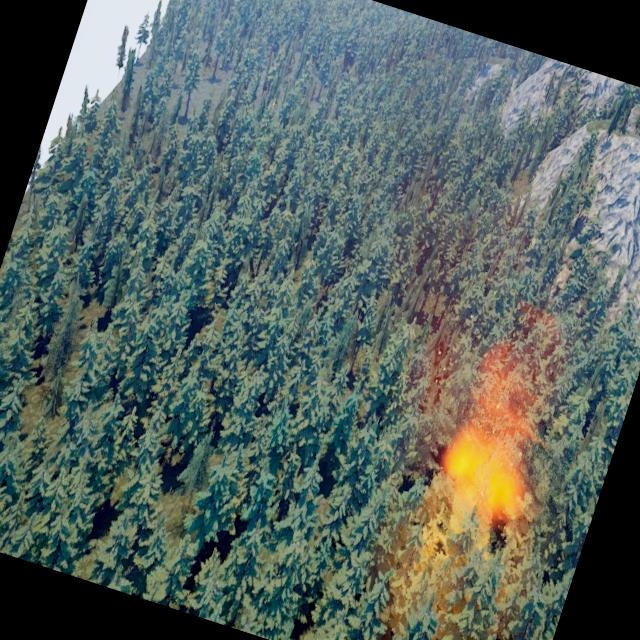fire: (434, 430, 539, 530)
smoke: (268, 157, 640, 640)
